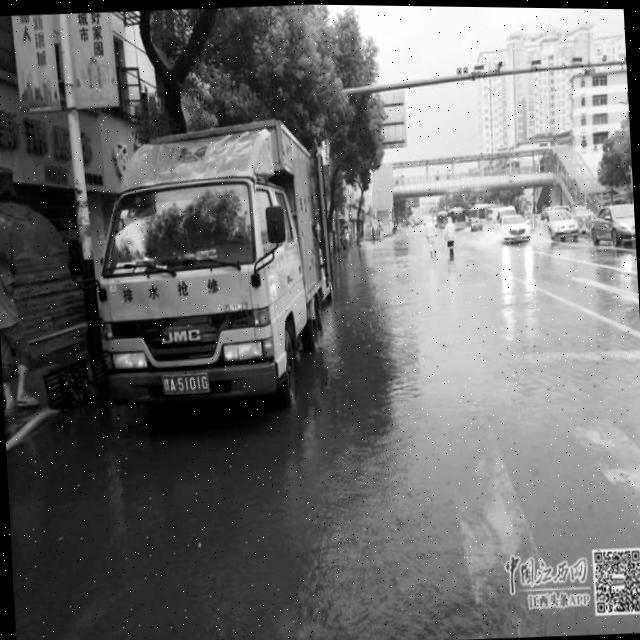civilian: (0, 225, 50, 426)
rescuer: (416, 212, 442, 265), (442, 209, 462, 266)
